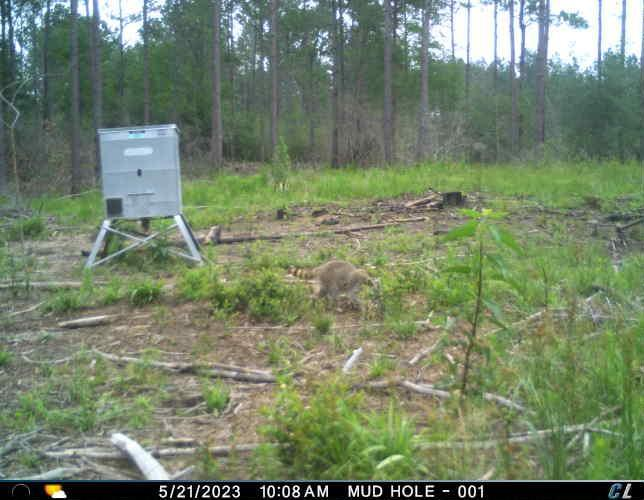Raccoon: (282, 258, 377, 317)
